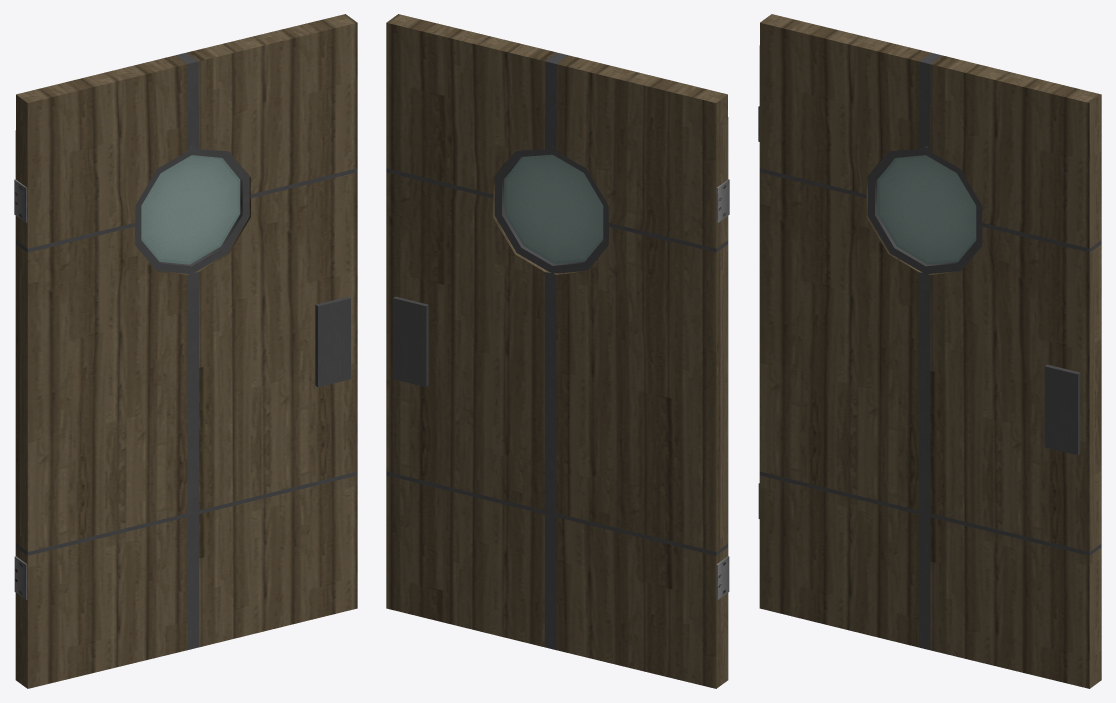
Rendered from p6_door_hijacked_wood_lod2.glb.
3 views of the same model, side by side, from view 1: azimuth 30°, elevation 25°; view 2: azimuth 150°, elevation 25°; view 3: azimuth 330°, elevation 25° (orthographic).
Visible parts, largest first — view 1: surf0, surf3, surf2, surf1, surf4; view 2: surf0, surf3, surf2, surf1, surf4; view 3: surf0, surf3, surf2, surf1.
Part boxes in pixels (box(x1,y1,x2,y2)): surf0: box(15, 14, 357, 688); surf3: box(141, 155, 240, 264); surf2: box(15, 52, 357, 649); surf1: box(135, 146, 350, 387); surf4: box(14, 179, 27, 599); surf0: box(386, 14, 728, 688); surf3: box(504, 154, 603, 264); surf2: box(386, 52, 728, 649); surf1: box(393, 146, 608, 386); surf4: box(716, 179, 729, 599); surf0: box(759, 14, 1101, 688); surf3: box(877, 155, 976, 264); surf2: box(759, 52, 1101, 649); surf1: box(867, 146, 1080, 455).
Size of the model in its own units: 60.15 by 102 by 5.32.
